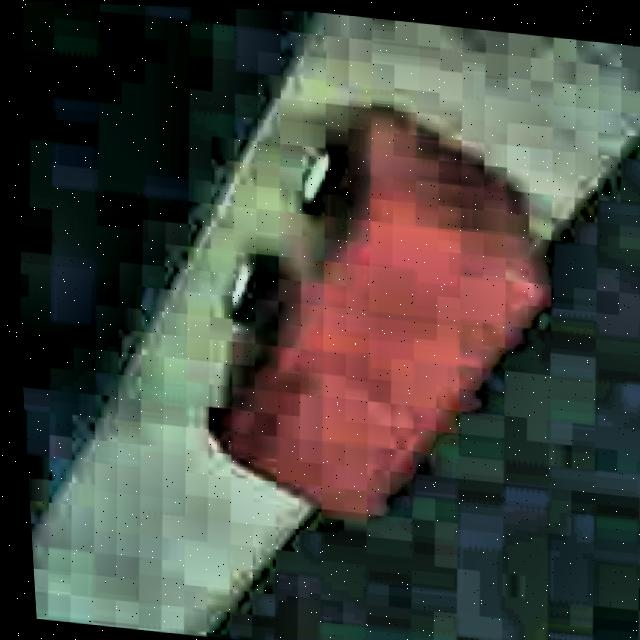bus: (181, 82, 574, 540)
